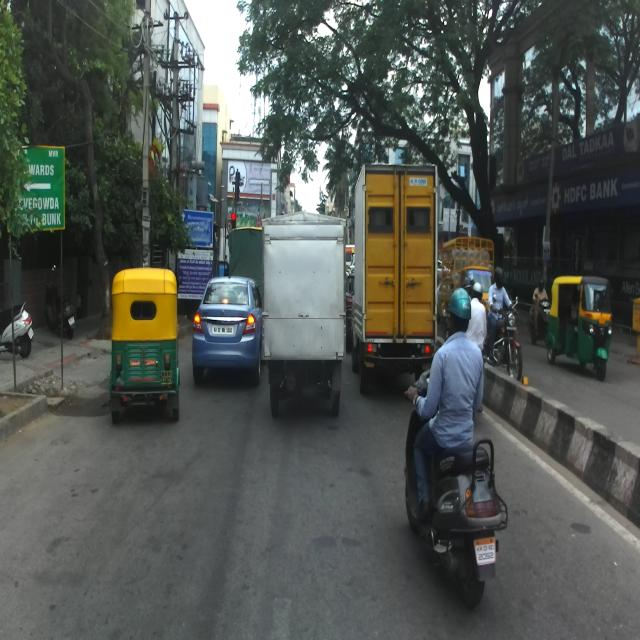auto ahead at: (111, 257, 181, 423), (547, 275, 612, 378)
car ahead at: (193, 273, 260, 385)
motorcycle ahead at: (400, 437, 504, 594)
sign board ahead at: (16, 143, 71, 241)
traffic signal ahead at: (232, 168, 242, 198)
truck ahead at: (358, 161, 438, 365), (264, 220, 345, 415)
